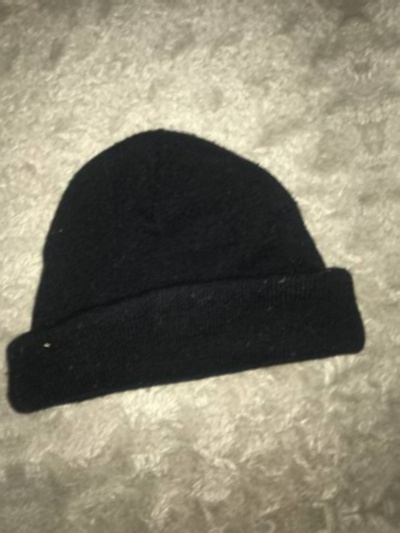Hat: (0, 60, 386, 436), (387, 0, 400, 368)
